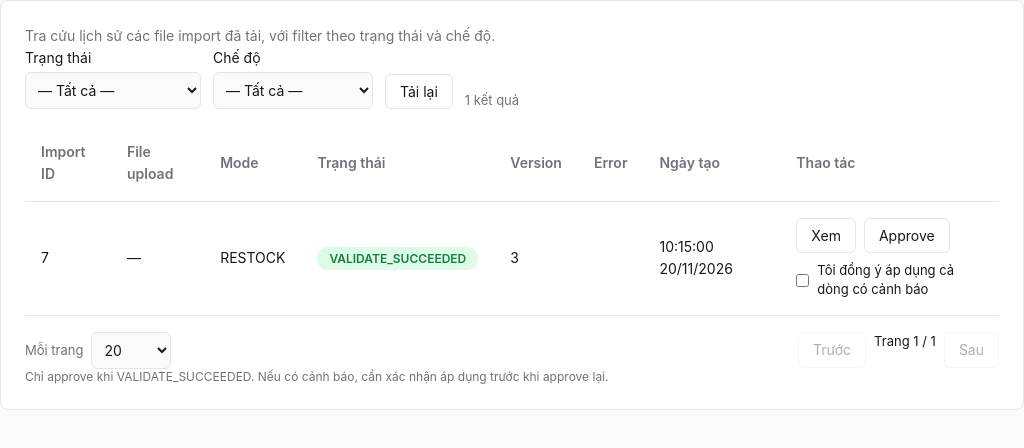
Test: requires explicit warning acceptance and displays approval errors
The width and height of the screenshot is (1024, 448).
Step 1. Click the checkbox → (803, 280), box [796, 274, 809, 286]
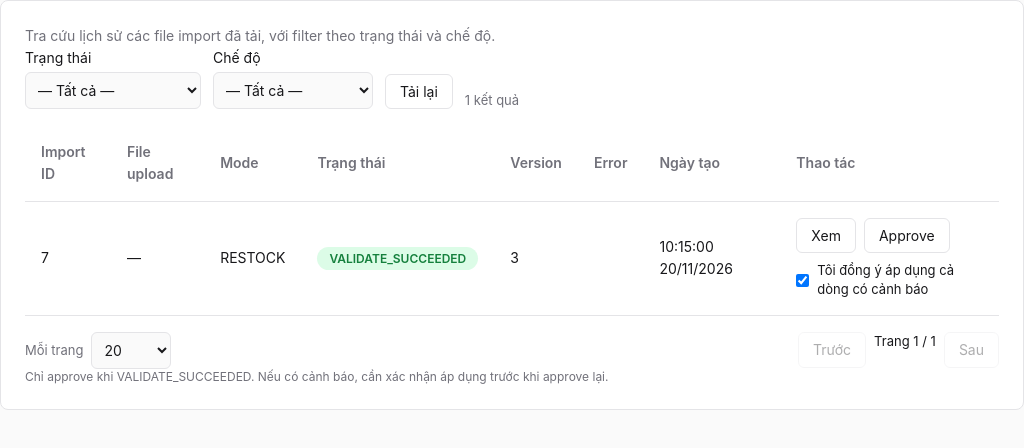
Step 2. Click the button with aria-label "Approve import #7" → (907, 236), box [864, 218, 950, 254]
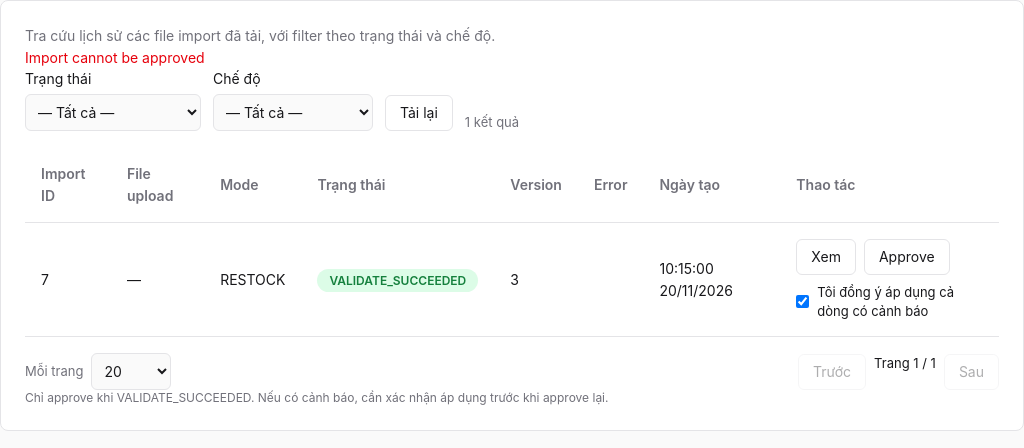
Check: the message reads "Import cannot be approved", box [25, 49, 205, 66]
